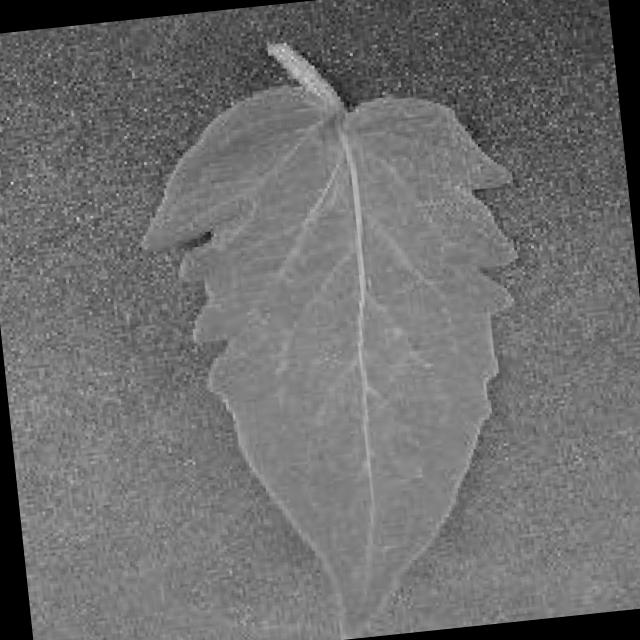healthy: (131, 40, 522, 639)
